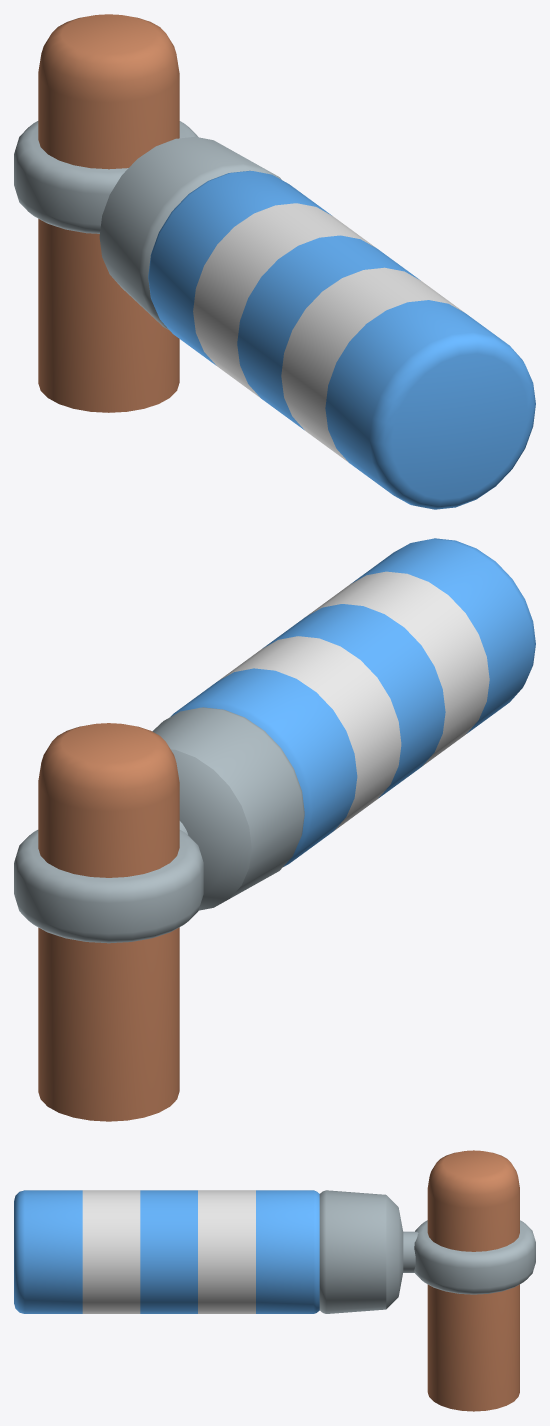
The model's file is swiper_teamBlue-col.glb.
3 views of the same model, one above another, from view 1: azimuth 30°, elevation 25°; view 2: azimuth 150°, elevation 25°; view 3: azimuth 270°, elevation 25° (orthographic). The views are drawn at different scales.
Parts seen in each view (by area): view 1: swiper_teamBlue-col; view 2: swiper_teamBlue-col; view 3: swiper_teamBlue-col.
Boxes of the visible parts, <box> form: swiper_teamBlue-col: <box>14,14,535,509</box>; swiper_teamBlue-col: <box>14,538,535,1121</box>; swiper_teamBlue-col: <box>14,1150,535,1411</box>.
Size of the model in its own units: 0.8059 by 1.63 by 3.38.
